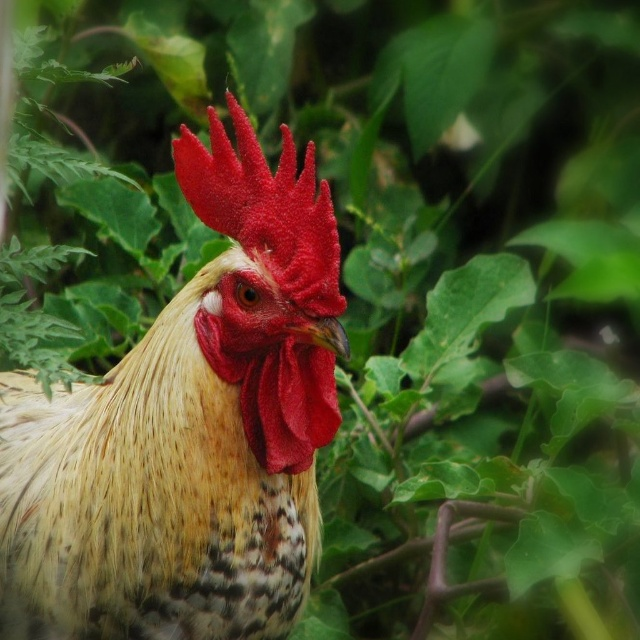Chicken: (0, 90, 351, 640)
